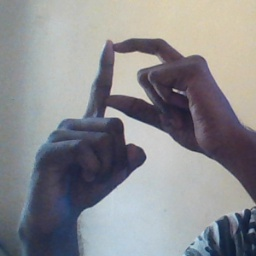D: (67, 30, 212, 156)
